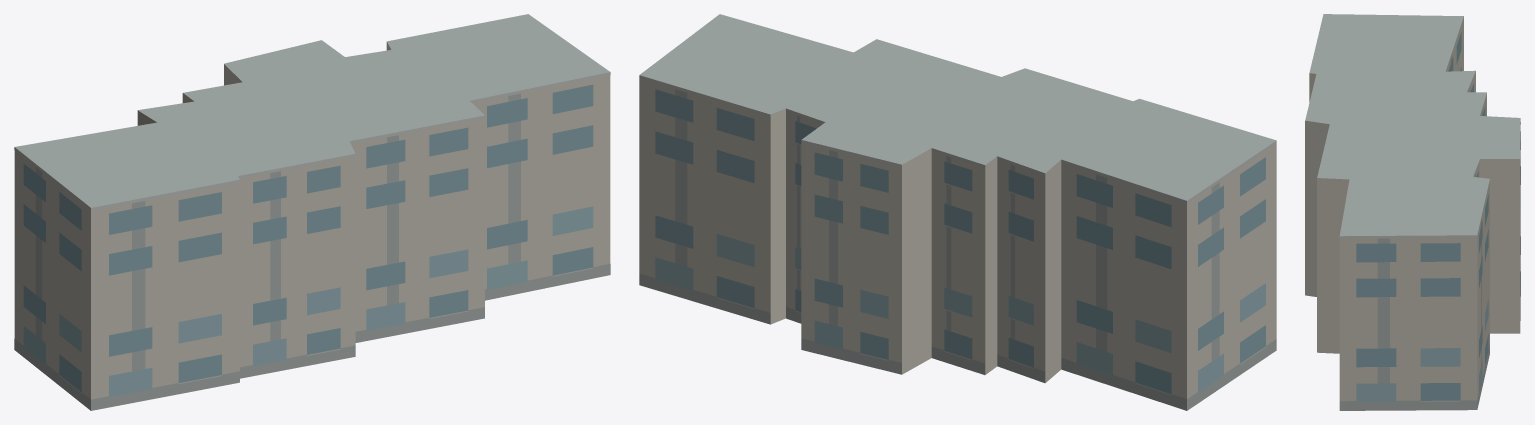
Rendered from residential-75a0102a-61f7-4f15-abf9-51816c717448.glb.
The picture shows the model from 3 angles, left to right: view 1: azimuth 30°, elevation 25°; view 2: azimuth 150°, elevation 25°; view 3: azimuth 270°, elevation 25°; orthographic projection. The views are drawn at different scales.
Parts seen in each view (by area): view 1: residential-75a0102a-61f7-4f15-abf9-51816c717448.tmp; view 2: residential-75a0102a-61f7-4f15-abf9-51816c717448.tmp; view 3: residential-75a0102a-61f7-4f15-abf9-51816c717448.tmp.
Part boxes in pixels (box(x1,y1,x2,y2)): residential-75a0102a-61f7-4f15-abf9-51816c717448.tmp: box(14, 14, 610, 410); residential-75a0102a-61f7-4f15-abf9-51816c717448.tmp: box(639, 14, 1276, 410); residential-75a0102a-61f7-4f15-abf9-51816c717448.tmp: box(1305, 14, 1520, 410).
Size of the model in its own units: 41.58 by 15.25 by 17.07.
